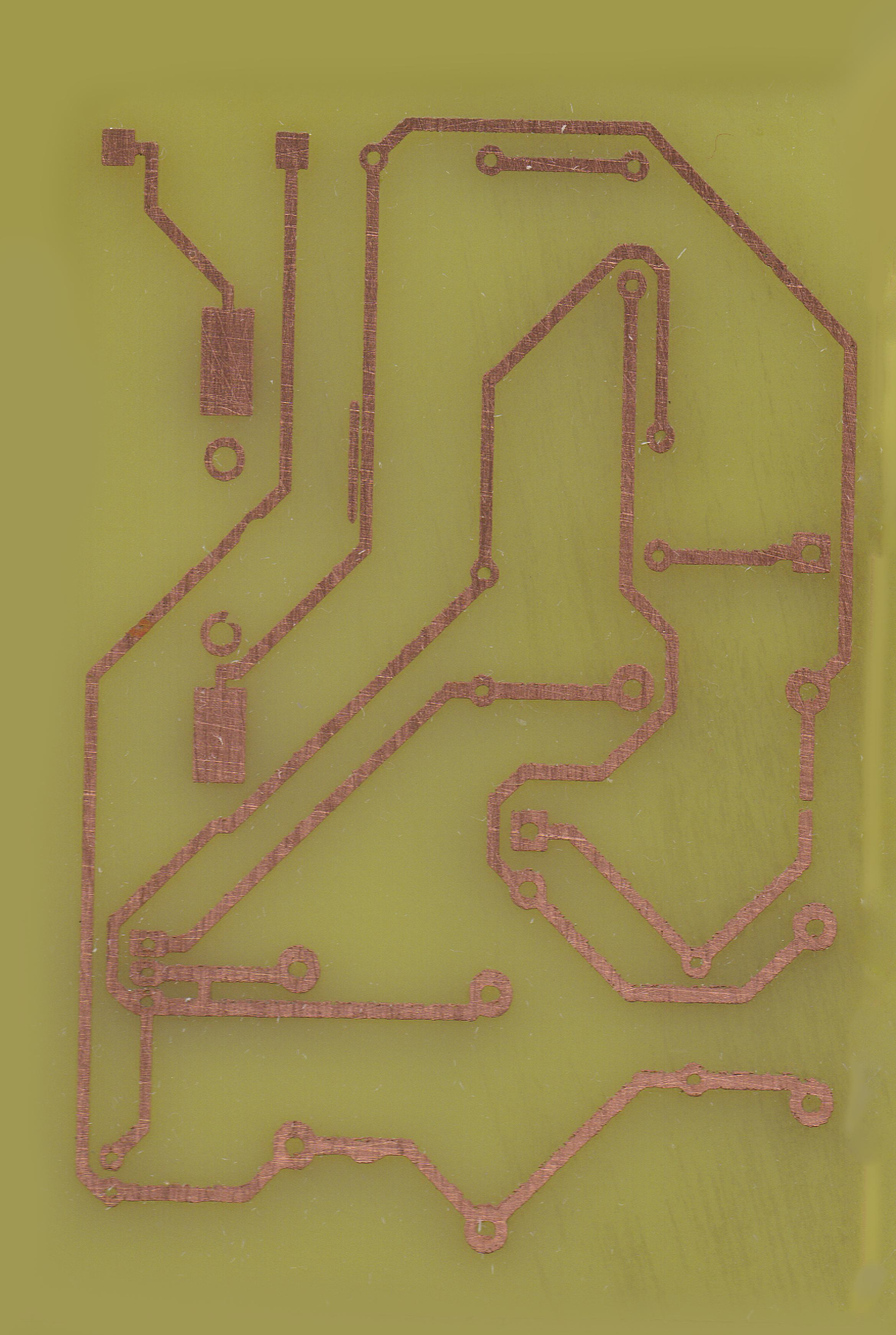missing_hole: (198, 612, 242, 656)
mouse_bite: (226, 511, 269, 547)
open_circuit: (791, 789, 824, 817)
short: (190, 962, 218, 1020)
spur: (347, 1133, 385, 1166)
spurious_copper: (345, 398, 360, 525)
